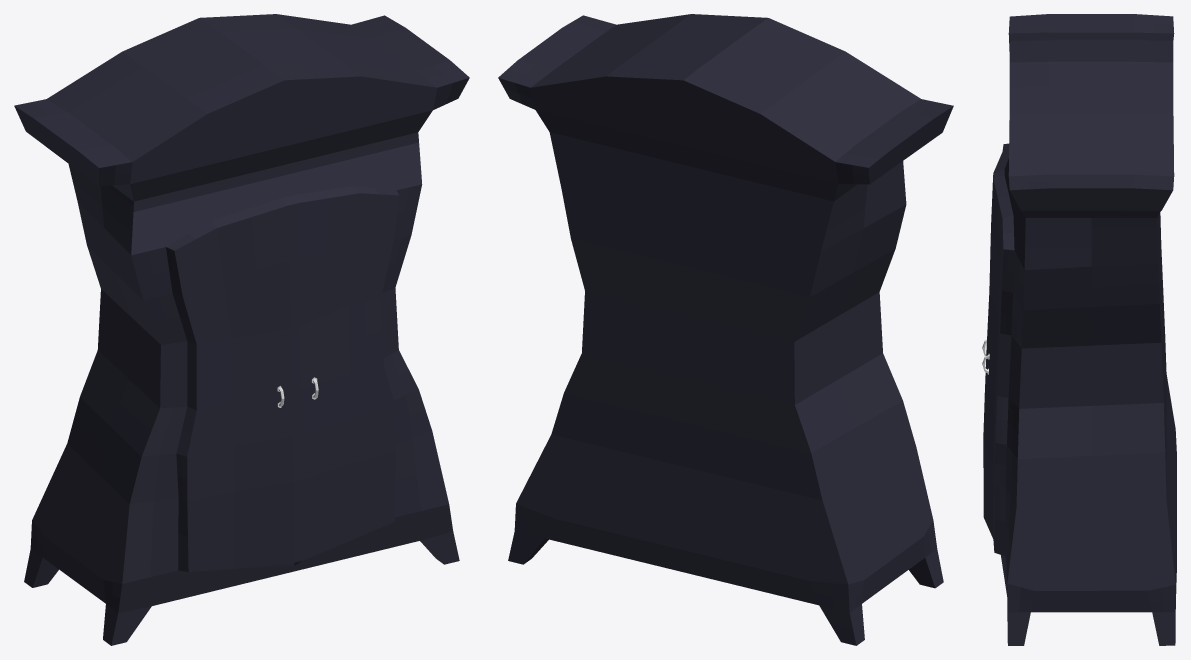
The model's file is Armadio.fbx.
3 views of the same model, side by side, from view 1: azimuth 30°, elevation 25°; view 2: azimuth 150°, elevation 25°; view 3: azimuth 270°, elevation 25° (orthographic). The views are drawn at different scales.
Visible parts, largest first — view 1: Cube.049, Cube.050, Cube.051; view 2: Cube.049; view 3: Cube.049, Cube.051, Cube.050.
Part boxes in pixels (bbox=[...]): Cube.049: bbox=[14, 14, 469, 645]; Cube.050: bbox=[166, 197, 298, 571]; Cube.051: bbox=[287, 186, 399, 565]; Cube.049: bbox=[498, 14, 953, 645]; Cube.049: bbox=[1001, 14, 1176, 645]; Cube.051: bbox=[982, 172, 1014, 555]; Cube.050: bbox=[982, 143, 1009, 433].
Size of the model in its own units: 226 by 304 by 107.
